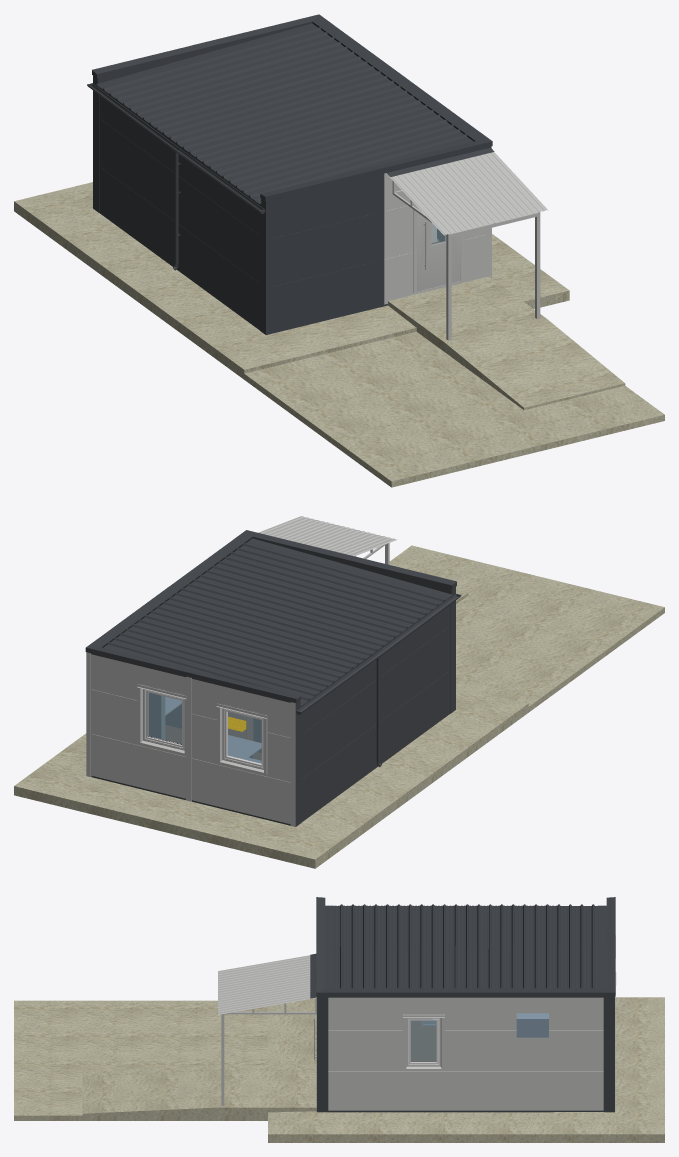
The model's file is mops.glb.
3 views of the same model, one above another, from view 1: azimuth 30°, elevation 25°; view 2: azimuth 150°, elevation 25°; view 3: azimuth 270°, elevation 25° (orthographic). The views are drawn at different scales.
Visible parts, largest first — view 1: 3DGeom-33, Sendwich.007, Roof.009, Roof.010, Sendwich.015, погчта отделка.001, Sendwich.013, Door.001, Plane.007, Plane.002, Plane.020, Водосточная+система.001 (+7 smaller); view 2: 3DGeom-33, Sendwich.007, Roof.009, Roof.010, Sendwich.006, Sendwich.005, погчта отделка.001, Cube.004, OK, OK.003, Plane.007, Plane.002 (+13 smaller); view 3: 3DGeom-33, Sendwich.004, Roof.009, Roof.010, погчта отделка.001, OK.006, Plane.014, Plane.019, Plane.006, Plane.012, CSP.001, Cube.004 (+7 smaller).
Part boxes in pixels (x1,y1,x2,y2): 3DGeom-33: (14, 182, 664, 487); Sendwich.007: (100, 87, 259, 328); Roof.009: (207, 27, 469, 169); Roof.010: (101, 58, 358, 199); Sendwich.015: (271, 175, 377, 331); погчта отделка.001: (387, 152, 547, 340); Sendwich.013: (384, 173, 486, 304); Door.001: (413, 203, 463, 292); Plane.007: (92, 45, 365, 201); Plane.002: (192, 20, 469, 177); Plane.020: (259, 199, 271, 335); Водосточная+система.001: (87, 83, 265, 213); 3DGeom-33: (14, 545, 664, 868); Sendwich.007: (301, 598, 449, 820); Roof.009: (106, 542, 349, 673); Roof.010: (209, 570, 447, 701); Sendwich.006: (192, 679, 290, 824); Sendwich.005: (91, 654, 185, 798); погчта отделка.001: (258, 516, 396, 564); Cube.004: (148, 692, 261, 763); OK: (223, 708, 263, 768); OK.003: (144, 689, 184, 749); Plane.007: (203, 559, 456, 703); Plane.002: (107, 535, 363, 681); 3DGeom-33: (14, 997, 664, 1142); Sendwich.004: (328, 997, 603, 1110); Roof.009: (334, 945, 597, 988); Roof.010: (334, 904, 597, 946); погчта отделка.001: (218, 955, 316, 1105); OK.006: (408, 1018, 439, 1065); Plane.014: (603, 996, 615, 1112); Plane.019: (316, 996, 328, 1112); Plane.006: (462, 988, 592, 997); Plane.012: (339, 988, 461, 997); CSP.001: (410, 1020, 436, 1059); Cube.004: (421, 1013, 548, 1037).
Size of the model in its own units: 7080 by 3141 by 14230.
Materials: 23 (4 with a texture image).
